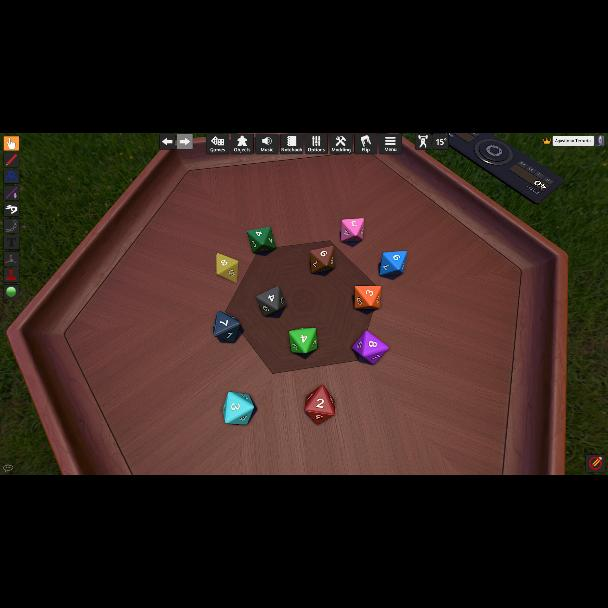d8: (303, 383, 335, 422), (352, 330, 388, 364), (222, 390, 256, 424), (256, 287, 286, 317), (214, 311, 241, 343), (247, 226, 275, 254), (288, 328, 316, 354), (379, 250, 405, 276), (309, 247, 334, 274), (354, 286, 380, 310), (216, 253, 238, 281), (342, 218, 364, 242)
